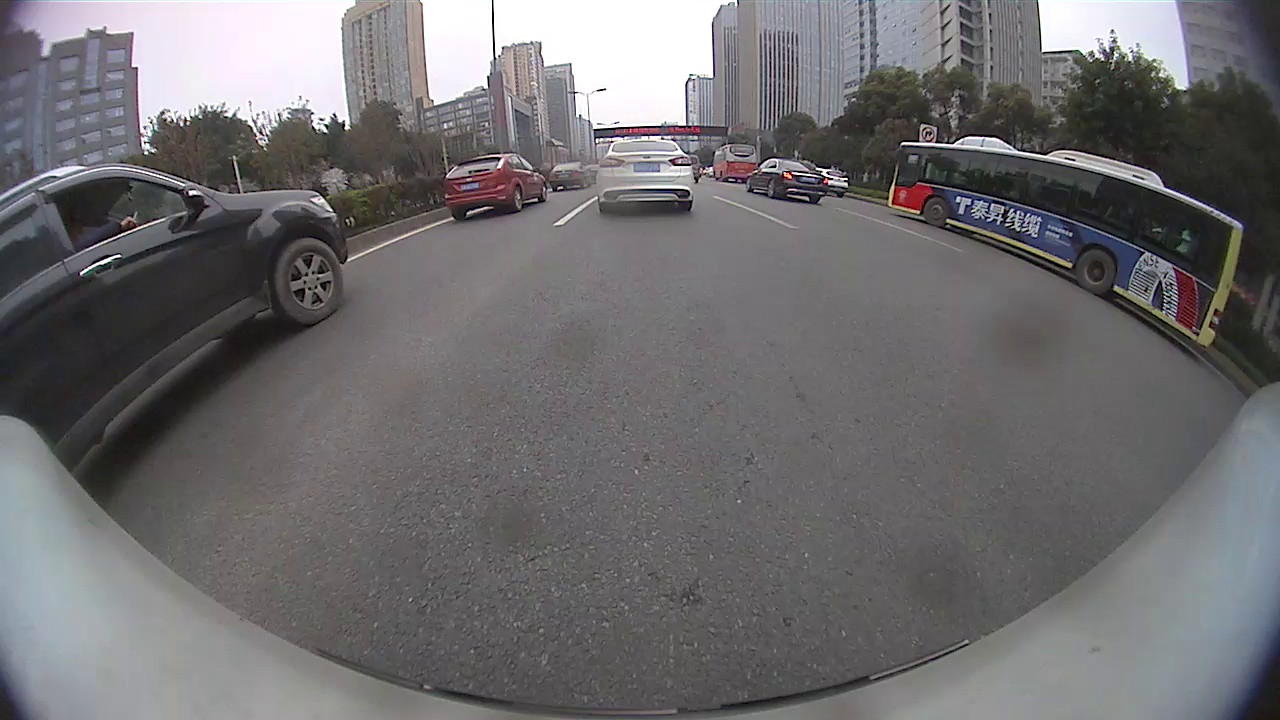bus: (885, 134, 1245, 351), (711, 143, 760, 184)
car: (1, 160, 352, 482), (593, 137, 696, 218), (441, 150, 550, 224), (744, 157, 830, 206)
front: (272, 238, 350, 323), (924, 195, 952, 230), (540, 185, 552, 203)
rear: (1073, 246, 1117, 295), (514, 185, 525, 215), (765, 180, 779, 200)
